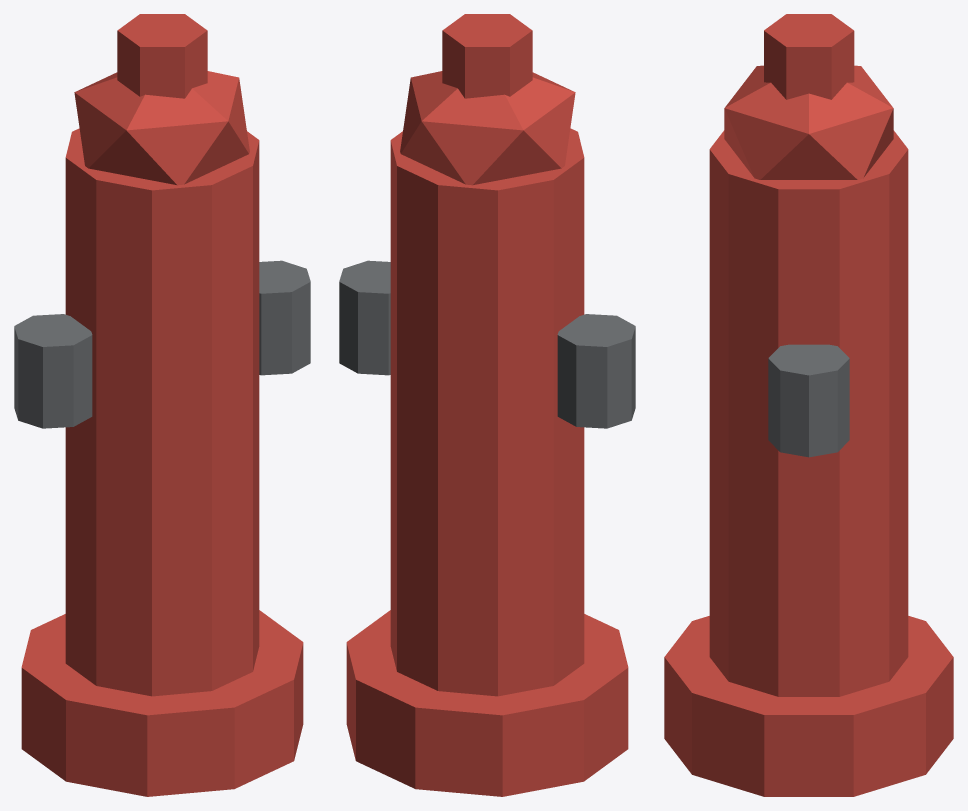
File: hydrant.glb
3 views of the same model, side by side, from view 1: azimuth 30°, elevation 25°; view 2: azimuth 150°, elevation 25°; view 3: azimuth 270°, elevation 25° (orthographic).
Parts seen in each view (by area): view 1: Prop; view 2: Prop; view 3: Prop.
Boxes of the visible parts, left/top/right/bottom form: Prop: left=14, top=14, right=310, bottom=796; Prop: left=339, top=14, right=635, bottom=796; Prop: left=664, top=14, right=953, bottom=796.
Bounding box in the file's own units: 0.37 × 0.865 × 0.32.
